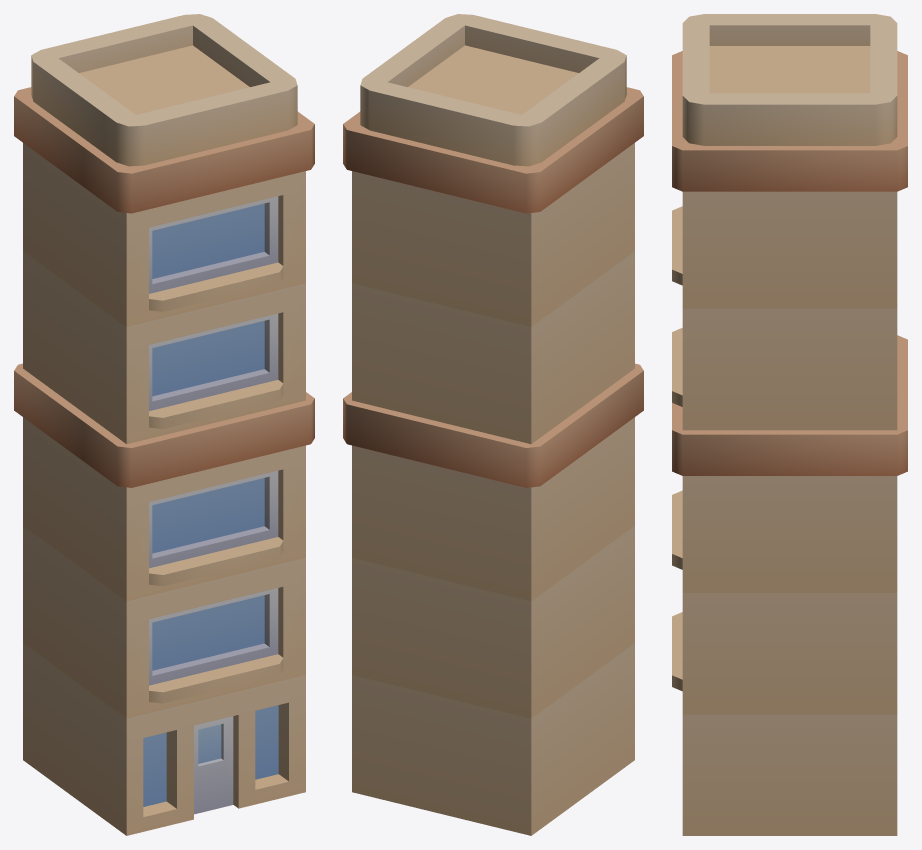
Rendered from tower-d.glb.
3 views of the same model, side by side, from view 1: azimuth 30°, elevation 25°; view 2: azimuth 150°, elevation 25°; view 3: azimuth 270°, elevation 25° (orthographic). The views are drawn at different scales.
Parts seen in each view (by area): view 1: mb_building-sample-tower-d; view 2: mb_building-sample-tower-d; view 3: mb_building-sample-tower-d.
Boxes of the visible parts, x1=… form: mb_building-sample-tower-d: x1=14, y1=14, x2=314, y2=835; mb_building-sample-tower-d: x1=343, y1=14, x2=643, y2=835; mb_building-sample-tower-d: x1=672, y1=14, x2=907, y2=835.
Size of the model in its own units: 1.1 by 3.76 by 1.1.
